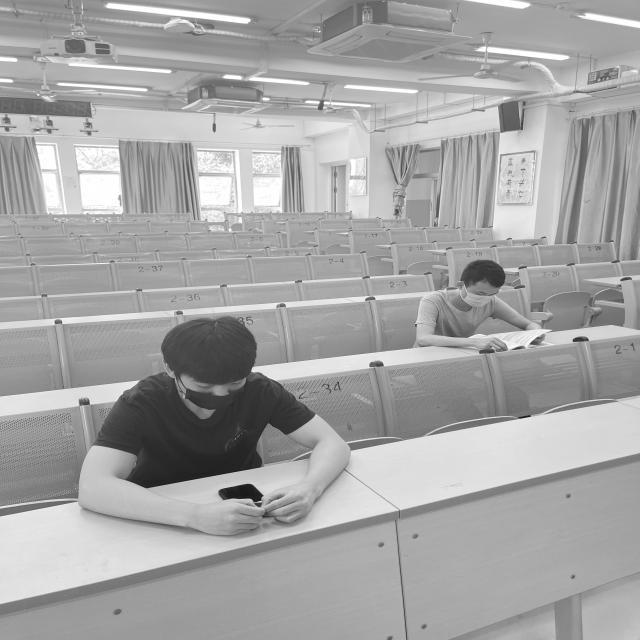phone: (79, 318, 354, 536)
study: (414, 263, 555, 348)
